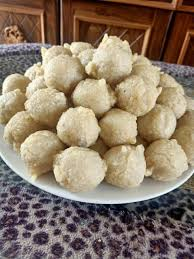Pempek adaan: (56, 145, 109, 197), (19, 127, 67, 176), (145, 139, 189, 182), (117, 70, 159, 115), (56, 105, 99, 148), (104, 145, 146, 189), (42, 51, 85, 93), (136, 103, 178, 144), (30, 86, 71, 127), (100, 107, 140, 149), (89, 42, 132, 81), (73, 73, 114, 112), (5, 108, 36, 147), (164, 84, 189, 117), (2, 68, 30, 92)
